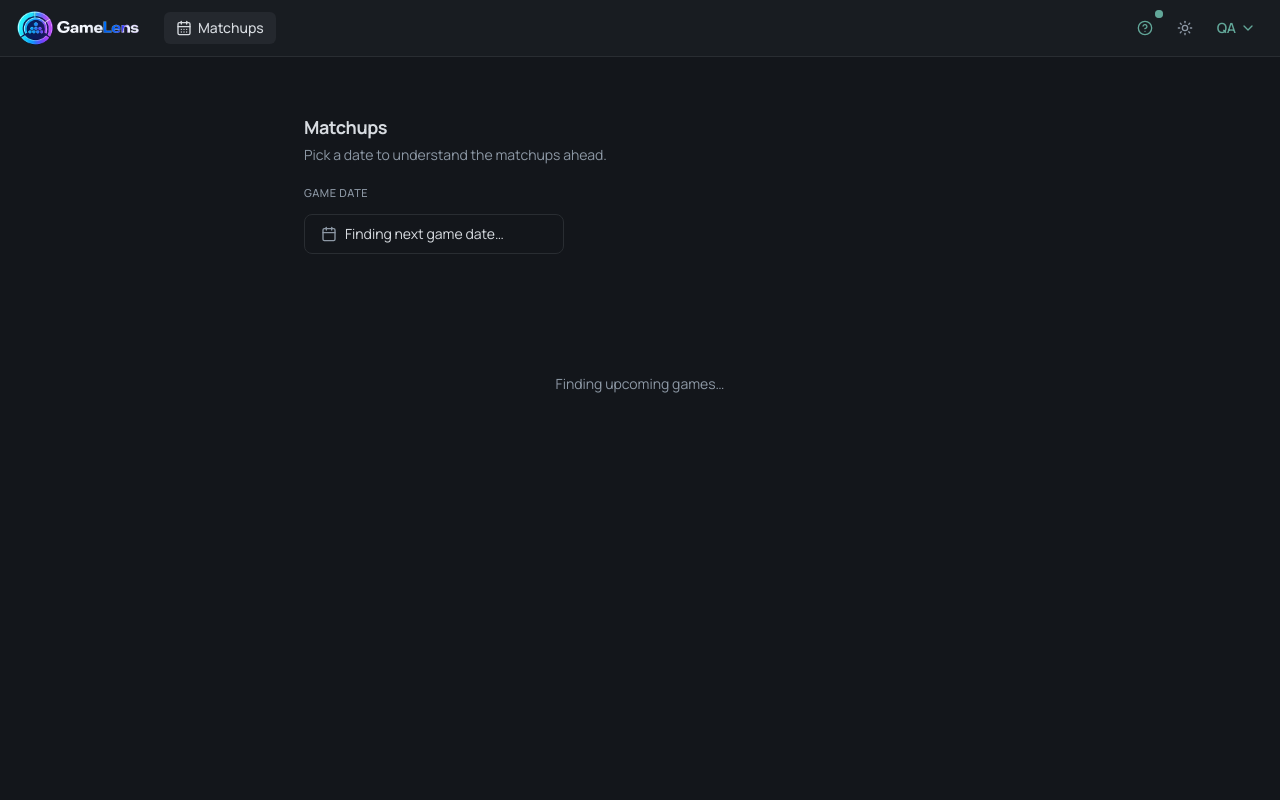
it: seven-day schedule lookup › keeps a manual pick made while discovery is pending
This screenshot has width=1280, height=800.
Step 1. Click the button "Finding next game date…" → (434, 234), box [304,214,564,254]
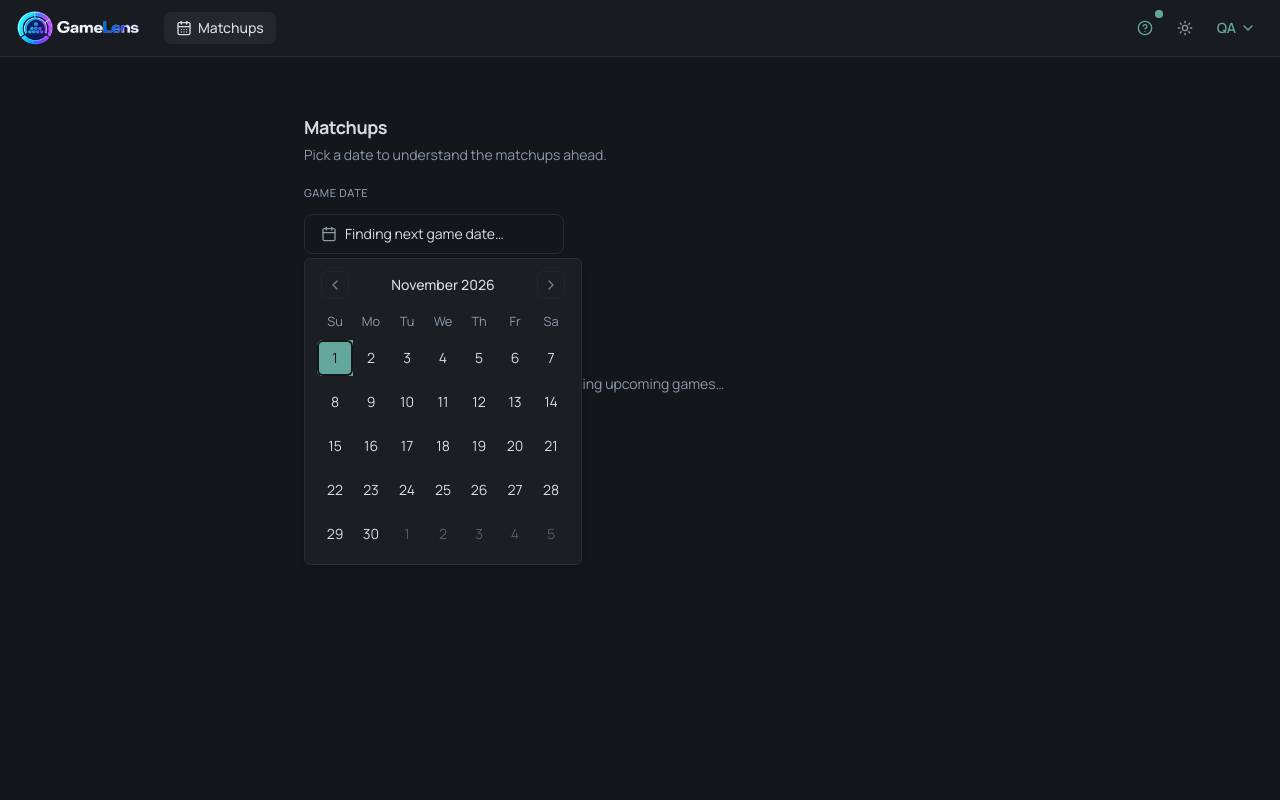
Step 2. Click the cell "6" → (515, 358), box [497,340,533,376]
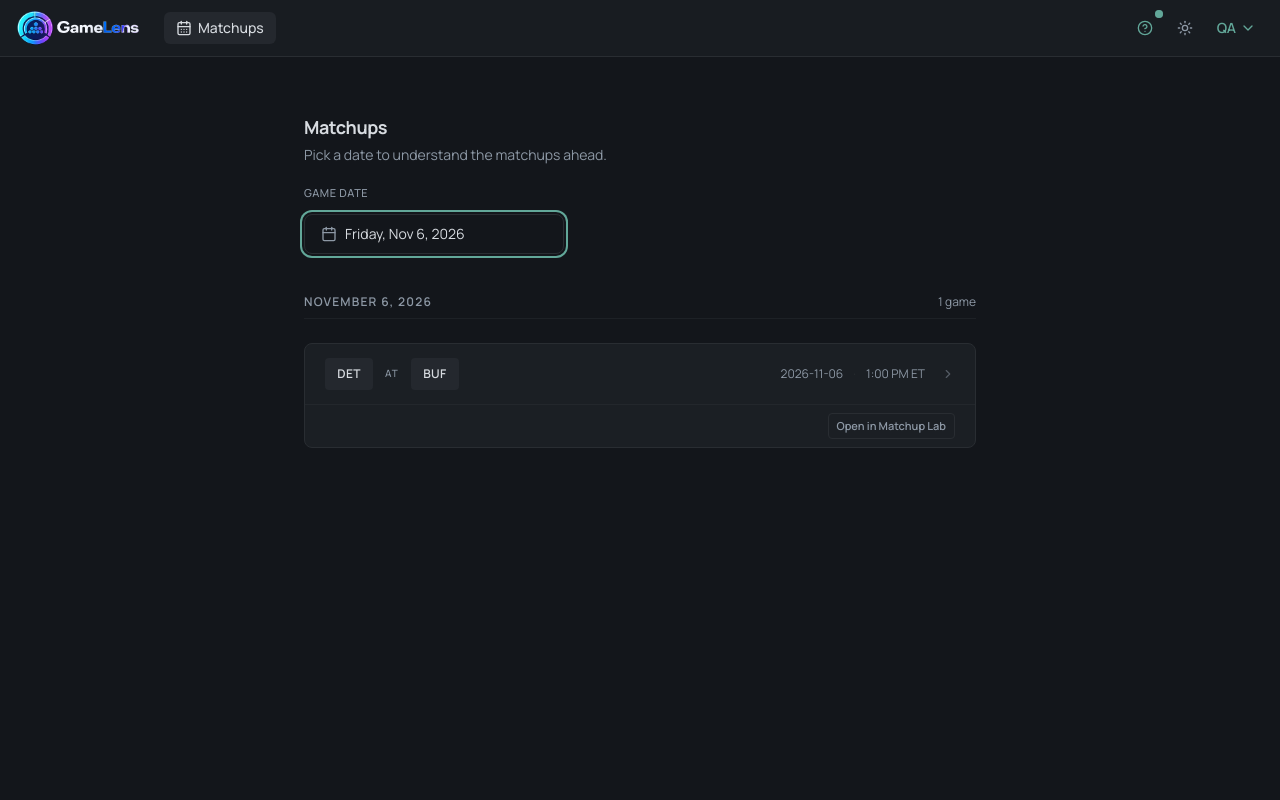
Expected: the text "1 game" is shown, [938,294,976,310]
